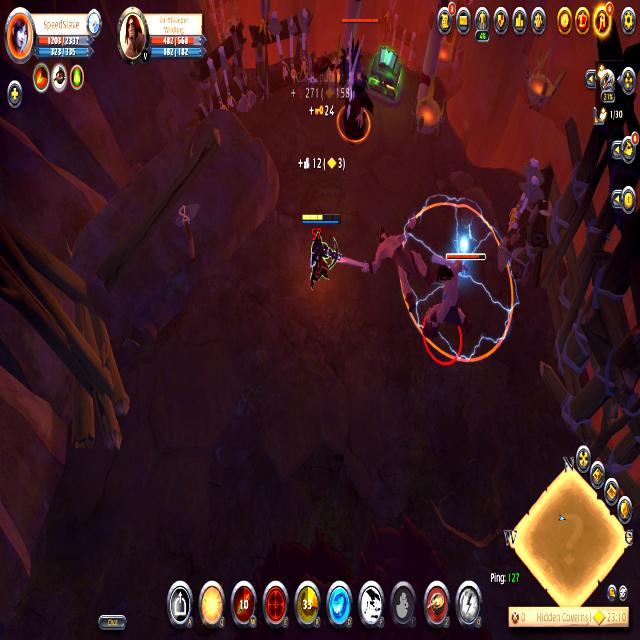ore: (422, 245, 487, 369), (334, 12, 383, 142)
red: (303, 208, 344, 300)
silver: (402, 202, 514, 360)
